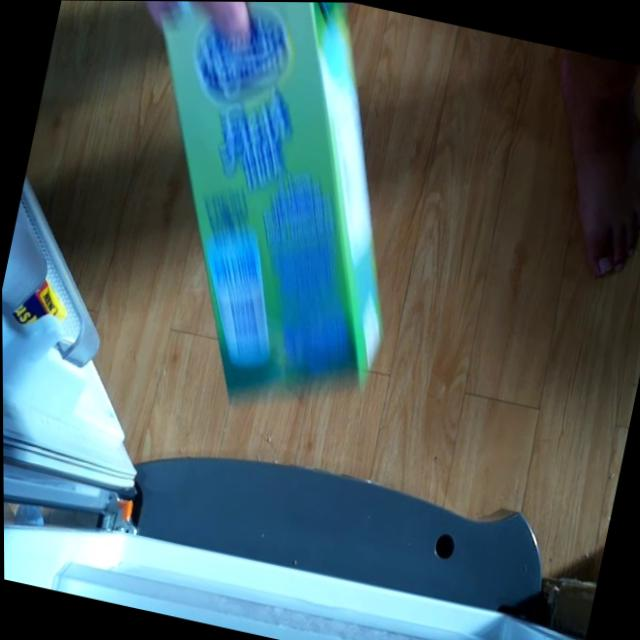milk: (92, 1, 460, 427)
